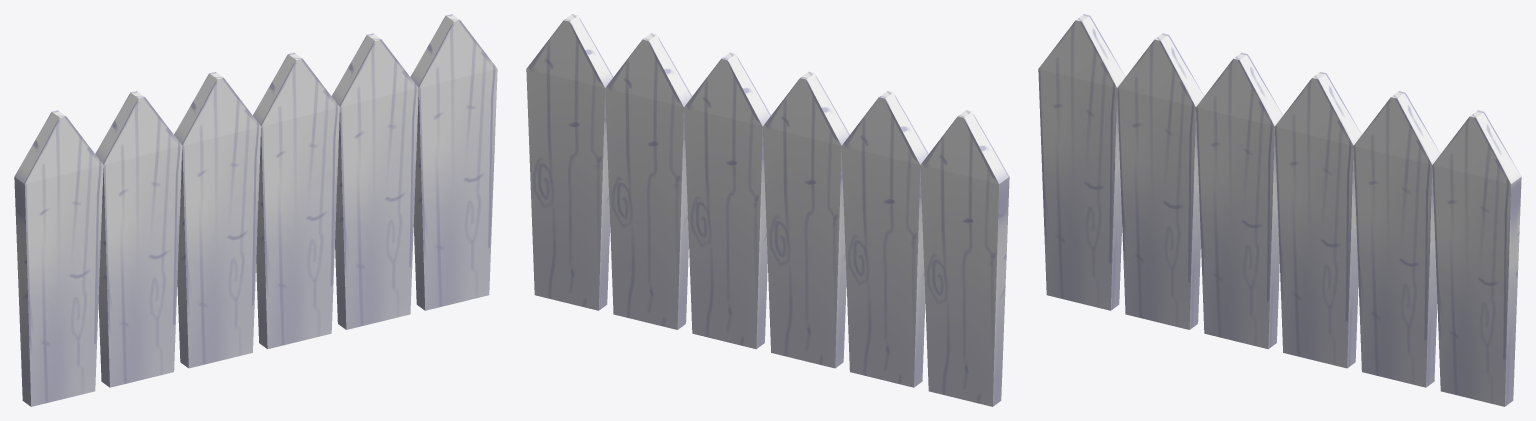
File: WhiteFence.fbx
3 views of the same model, side by side, from view 1: azimuth 30°, elevation 25°; view 2: azimuth 150°, elevation 25°; view 3: azimuth 330°, elevation 25° (orthographic).
Visible parts, largest first — view 1: WhiteFence; view 2: WhiteFence; view 3: WhiteFence.
Part boxes in pixels (bbox=[...]): WhiteFence: bbox=[14, 14, 497, 406]; WhiteFence: bbox=[526, 14, 1009, 406]; WhiteFence: bbox=[1038, 14, 1521, 406].
Size of the model in its own units: 406 by 231 by 15.52.
Materials: 1 (1 with a texture image).
